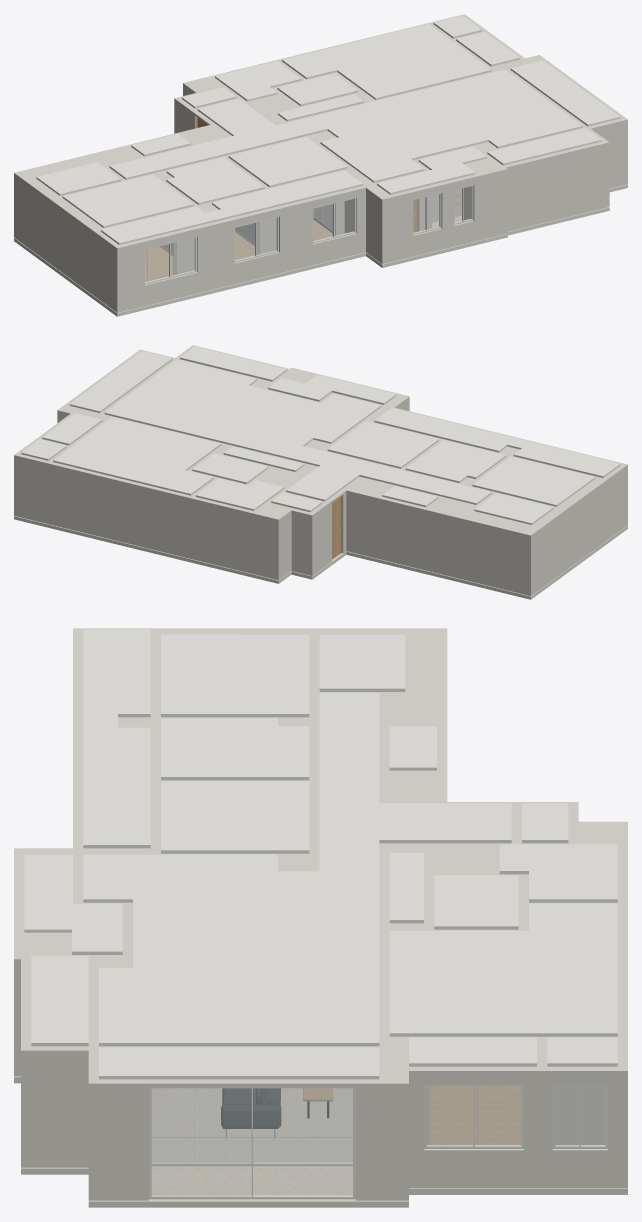
Rendered from acro168c-basic.glb.
3 renders of one model, top to bottom at view 1: azimuth 30°, elevation 25°; view 2: azimuth 150°, elevation 25°; view 3: azimuth 270°, elevation 25°, orthographic. The views are drawn at different scales.
Visible parts, largest first — view 1: Ceiling/04, Wall/layer-00/00, Wall/layer-03/00, Ceiling/10, Wall/layer-01/05, Ceiling/08, Wall/layer-01/00, Wall/layer-02/00, Ceiling/05, Ceiling/07, Ceiling/06, Base/00 (+30 smaller); view 2: Ceiling/04, Wall/layer-01/08, Wall/layer-03/00, Wall/layer-01/00, Ceiling/10, Wall/layer-00/01, Wall/layer-00/00, Ceiling/08, Ceiling/05, Ceiling/07, Base/00, Ceiling/06 (+17 smaller); view 3: Ceiling/04, Wall/layer-03/00, Ceiling/10, Ceiling/08, Ceiling/05, Floor/living-kitchen-hall, Wall/layer-00/01, sliding-18/glass-1, Ceiling/07, sliding-18/glass-0, Ceiling/14, Ceiling/06 (+35 smaller).
Boxes of the visible parts, x1,y1,x2,y2 form: Ceiling/04: (109,69,582,182); Wall/layer-00/00: (14,163,627,312); Wall/layer-03/00: (14,14,627,250); Ceiling/10: (282,24,491,99); Wall/layer-01/05: (418,127,627,220); Ceiling/08: (101,170,362,244); Wall/layer-01/00: (14,181,144,292); Wall/layer-02/00: (14,121,627,255); Ceiling/05: (62,174,193,227); Ceiling/07: (228,137,347,187); Ceiling/06: (166,157,264,204); Base/00: (14,184,627,316); Ceiling/04: (104,359,491,504); Wall/layer-01/08: (14,462,331,560); Wall/layer-03/00: (14,345,627,537); Wall/layer-01/00: (342,472,627,576); Ceiling/10: (53,417,221,495); Wall/layer-00/01: (14,496,331,580); Wall/layer-00/00: (342,506,627,595); Ceiling/08: (374,408,620,477); Ceiling/05: (472,456,595,506); Ceiling/07: (327,421,439,468); Base/00: (14,516,627,599); Ceiling/06: (405,440,506,482); Ceiling/04: (83,693,511,1046); Wall/layer-03/00: (14,628,627,1087); Ceiling/10: (389,903,617,1036); Ceiling/08: (83,629,150,848); Ceiling/05: (161,634,309,717); Floor/living-kitchen-hall: (151,1088,352,1162); Wall/layer-00/01: (355,1120,627,1200); sliding-18/glass-1: (152,1088,251,1196); Ceiling/07: (161,781,309,853); sliding-18/glass-0: (253,1088,352,1195); Ceiling/14: (99,1047,379,1079); Ceiling/06: (161,718,309,780).
Bounding box in the file's own units: 20.87 × 2.72 × 11.9.
26 materials, 7 textured.
